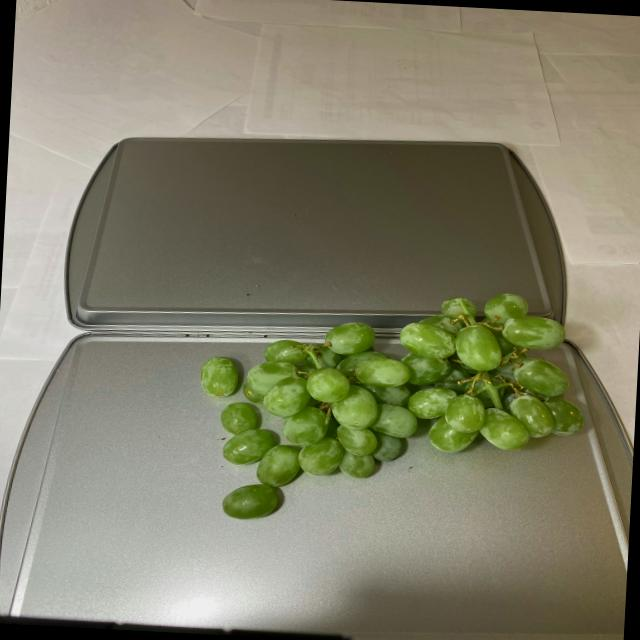grapes: (191, 276, 594, 534)
